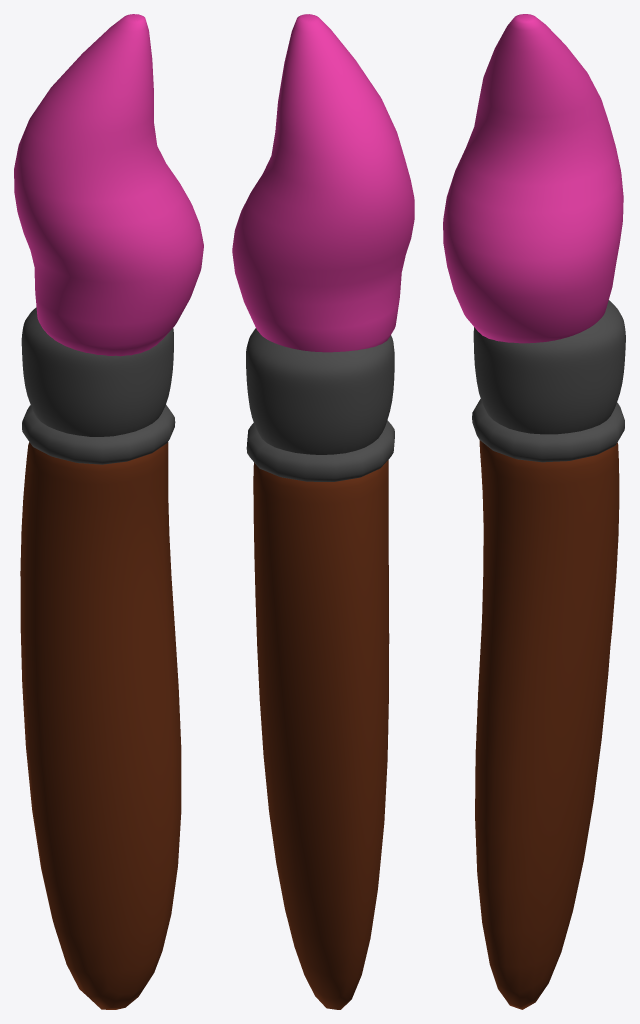
The model's file is brush-6.fbx.
3 views of the same model, side by side, from view 1: azimuth 30°, elevation 25°; view 2: azimuth 150°, elevation 25°; view 3: azimuth 270°, elevation 25° (orthographic).
Parts seen in each view (by area): view 1: Handle, Handle.001; view 2: Handle, Handle.001; view 3: Handle, Handle.001.
Boxes of the visible parts, box(x1,y1,x2,y2) form: Handle: box(20, 307, 181, 1009); Handle.001: box(14, 14, 203, 356); Handle: box(246, 328, 394, 1009); Handle.001: box(232, 14, 414, 352); Handle: box(472, 300, 625, 1009); Handle.001: box(443, 14, 623, 343).
Bounding box in the file's own units: 254 × 1464 × 242.
